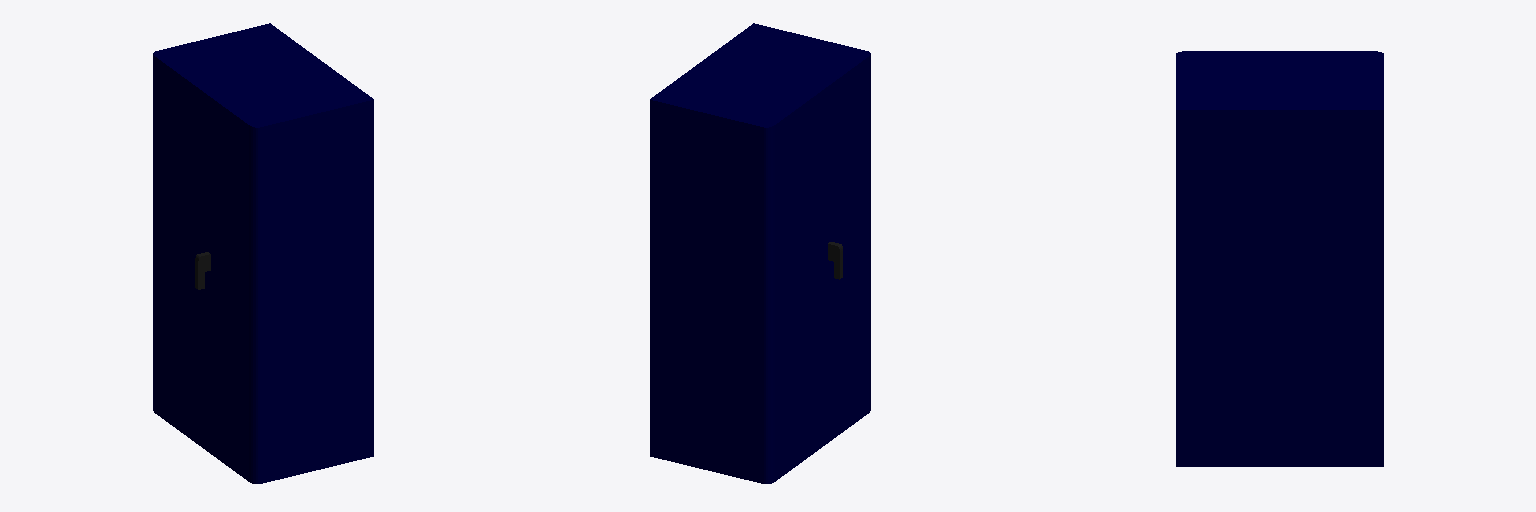
Rendered from blue_cabinet.obj.
3 views of the same model, side by side, from view 1: azimuth 30°, elevation 25°; view 2: azimuth 150°, elevation 25°; view 3: azimuth 270°, elevation 25° (orthographic).
Parts seen in each view (by area): view 1: Cube; view 2: Cube; view 3: Cube.
Part boxes in pixels (bbox=[...]): Cube: bbox=[153, 23, 373, 483]; Cube: bbox=[650, 23, 870, 483]; Cube: bbox=[1176, 51, 1383, 466].
Bounding box in the file's own units: 0.6615 × 1.7 × 0.9.